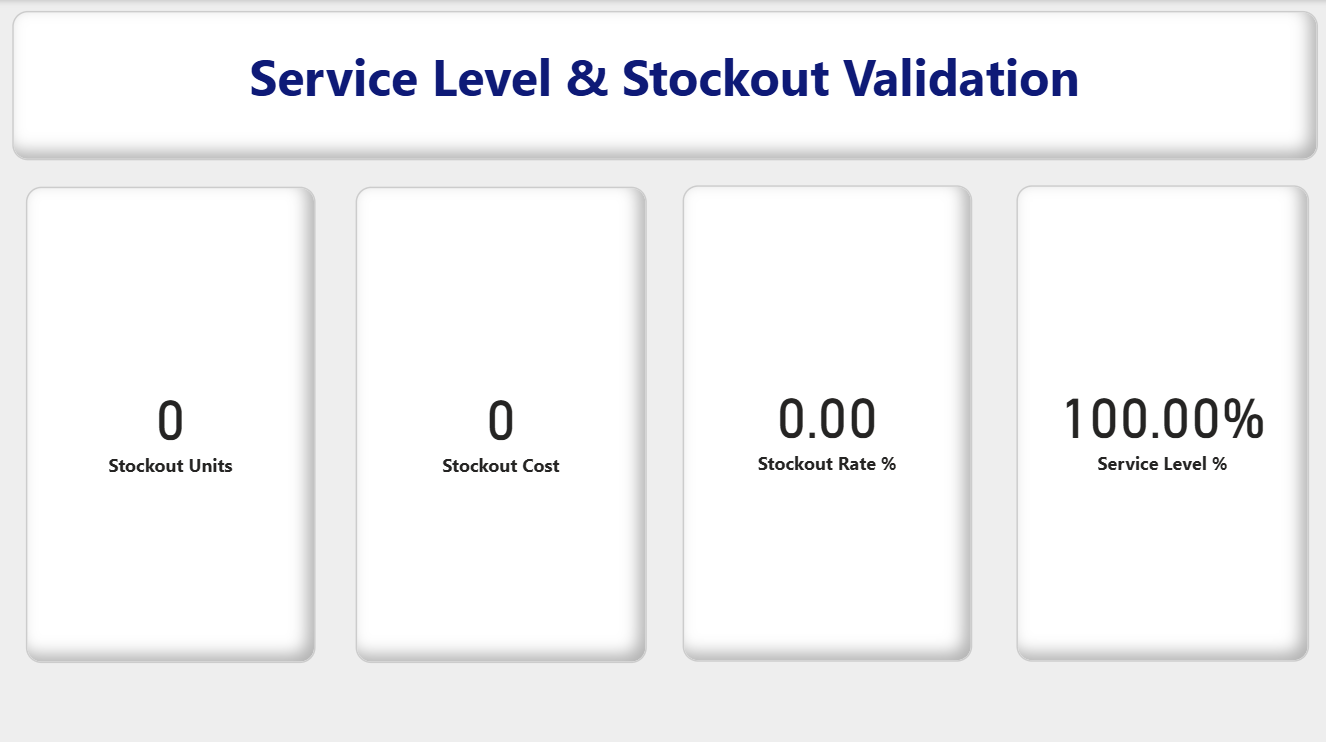

Layout of this report page (visuals, bound fields, positions):
{"tool":"powerbi","page":{"name":"Page 3","canvas":[1280,720],"ordinal":2},"visuals":[{"type":"card","fields":{"Values":["inventory_transactions.Stockout Units"]},"box":[24.5,179.6,278.9,458.4],"z":0},{"type":"card","fields":{"Values":["inventory_transactions.Stockout Cost"]},"box":[342.8,179.6,280.2,458.4],"z":1},{"type":"card","fields":{"Values":["inventory_transactions.Stockout Rate %"]},"box":[657,178.2,278.9,458.4],"z":2},{"type":"textbox","box":[12.2,10.9,1256.9,144.2],"z":3},{"type":"card","fields":{"Values":["inventory_transactions.Service Level %"]},"box":[978,178.2,281.6,458.4],"z":4}]}

Visuals, with their boxes in screenshot pixels (x1, y1, x2, y2), scaled from the page's 1280x720 canvas onto the 1326x742 screenshot:
card - inventory_transactions.Stockout Units: 25,185,314,657
card - inventory_transactions.Stockout Cost: 355,185,645,657
card - inventory_transactions.Stockout Rate %: 681,184,970,656
textbox: 13,11,1315,160
card - inventory_transactions.Service Level %: 1013,184,1305,656
